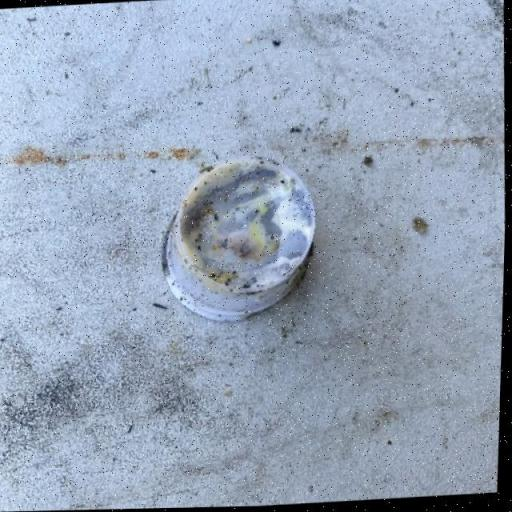plastic: (159, 152, 322, 326)
